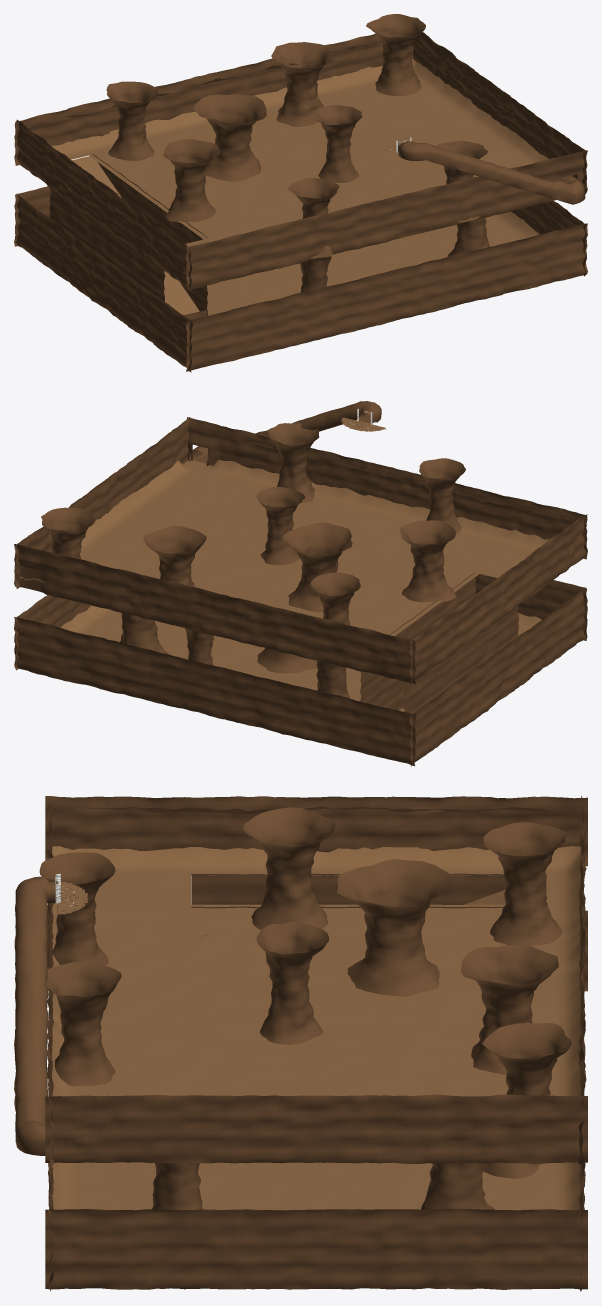
File: anthill-anthill.glb
3 renders of one model, top to bottom at view 1: azimuth 30°, elevation 25°; view 2: azimuth 150°, elevation 25°; view 3: azimuth 270°, elevation 25°, orthographic. The views are drawn at different scales.
Parts seen in each view (by area): view 1: T1Floor, T2WallN, T1WallN, T1WallS, T2WallE, T2Floor, T1WallE, T1WallW, T1Pillar2, RampWallE, T1Pillar1, T1Pillar5 (+14 smaller); view 2: T1Floor, T2WallS, T1WallS, T1WallN, T2WallE, T1WallE, T2Floor, T1WallW, RampWallE, T1Pillar2, T1Pillar5, RampWallW (+14 smaller); view 3: T1Floor, T2WallW, T1WallW, T1WallE, T2Floor, T1Pillar2, T1Pillar5, T1Pillar3, T1Pillar7, T1Pillar1, T1Pillar4, RampWallE (+11 smaller).
Boxes of the visible parts, x1,y1,x2,y2 form: T1Floor: [51, 59, 571, 273]; T2WallN: [185, 223, 587, 371]; T1WallN: [185, 150, 587, 290]; T1WallS: [14, 33, 413, 165]; T2WallE: [16, 193, 193, 372]; T2Floor: [67, 211, 559, 347]; T1WallE: [16, 120, 192, 290]; T1WallW: [412, 32, 586, 194]; T1Pillar2: [194, 94, 266, 181]; RampWallE: [49, 188, 165, 301]; T1Pillar1: [271, 42, 333, 126]; T1Pillar5: [162, 139, 220, 222]; T1Floor: [19, 459, 578, 654]; T2WallS: [14, 617, 415, 765]; T1WallS: [14, 544, 415, 683]; T1WallN: [187, 417, 587, 559]; T2WallE: [409, 587, 585, 766]; T1WallE: [409, 514, 587, 684]; T2Floor: [60, 605, 568, 721]; T1WallW: [14, 417, 190, 588]; RampWallE: [403, 606, 518, 713]; T1Pillar2: [282, 522, 352, 612]; T1Pillar5: [399, 520, 456, 602]; RampWallW: [360, 572, 475, 710]; T1Floor: [52, 846, 580, 1148]; T2WallW: [45, 1208, 587, 1289]; T1WallW: [45, 1094, 587, 1163]; T1WallE: [45, 796, 587, 866]; T2Floor: [52, 1162, 580, 1272]; T1Pillar2: [336, 859, 453, 996]; T1Pillar5: [243, 807, 335, 929]; T1Pillar3: [483, 822, 566, 946]; T1Pillar7: [42, 962, 121, 1086]; T1Pillar1: [461, 945, 558, 1074]; T1Pillar4: [256, 922, 329, 1044]; RampWallE: [191, 873, 546, 904].
Bounding box in the file's own units: 412 × 176 × 330.
